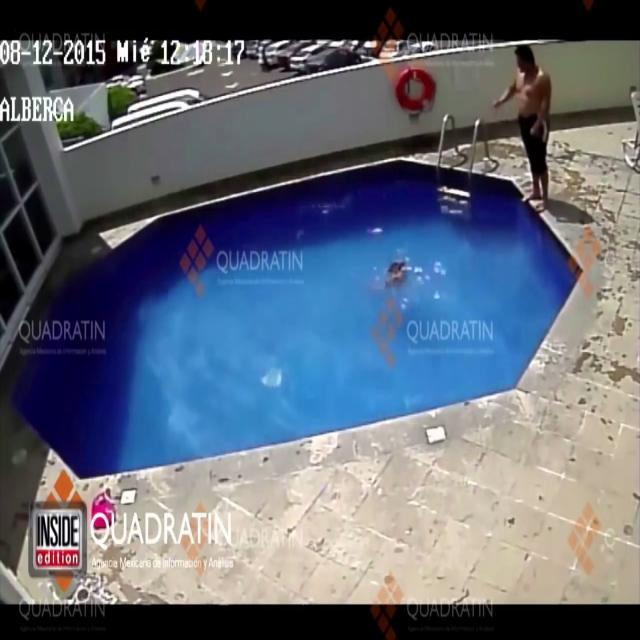adult: (494, 38, 554, 207)
child: (375, 252, 418, 290)
